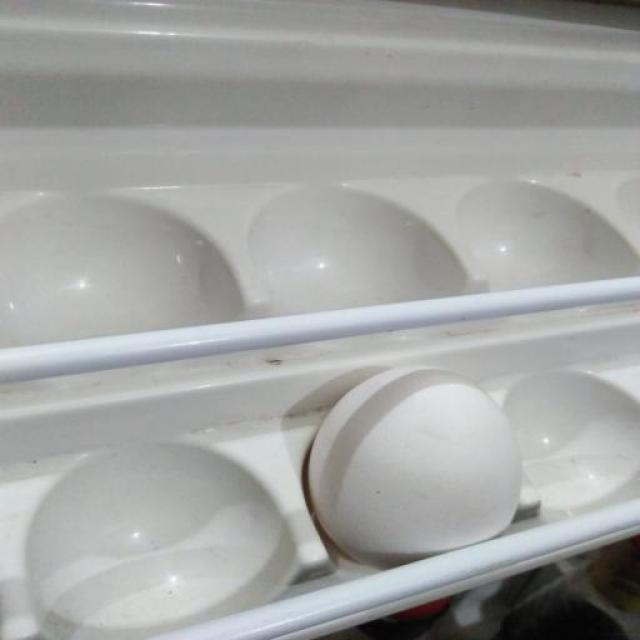telur: (306, 366, 518, 565)
